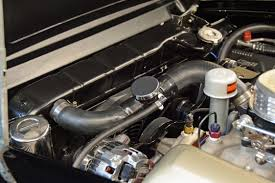radiator_hose: (54, 59, 251, 134)
